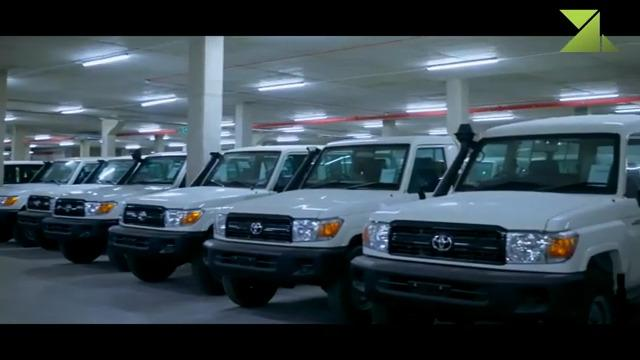MIL_HMMWV: (347, 114, 640, 316), (203, 135, 460, 308), (106, 142, 324, 286), (41, 151, 190, 264)
